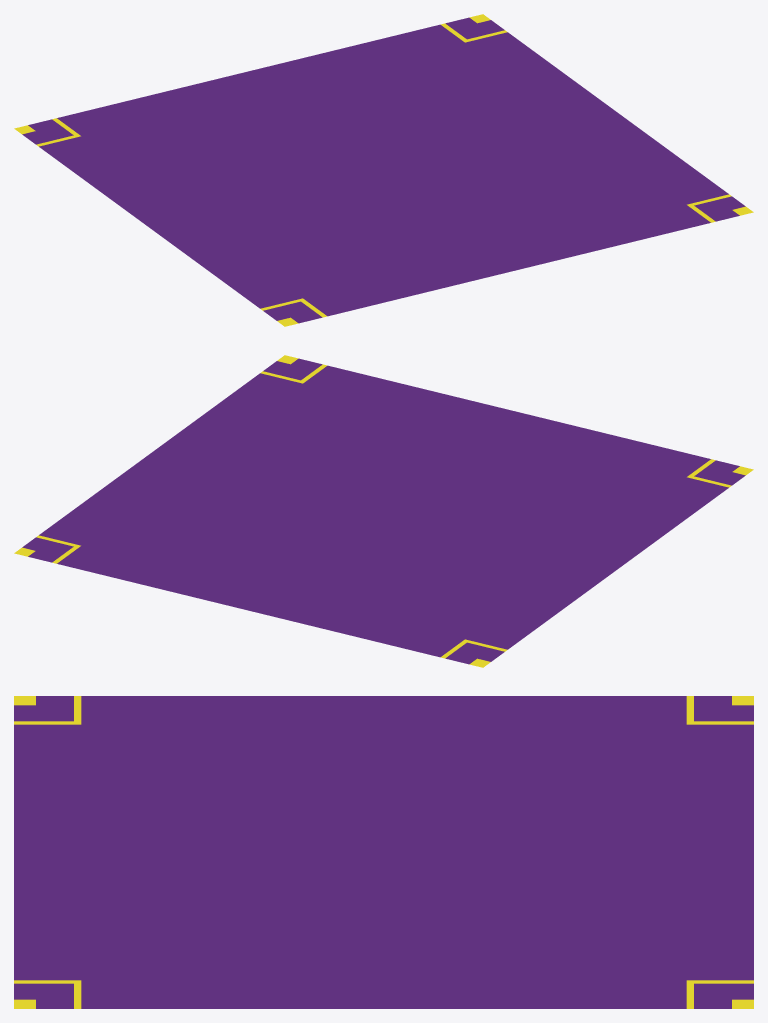
Rendered from cross_connector.fbx.
3 renders of one model, top to bottom at view 1: azimuth 30°, elevation 25°; view 2: azimuth 150°, elevation 25°; view 3: azimuth 270°, elevation 25°, orthographic. The views are drawn at different scales.
Parts seen in each view (by area): view 1: cross_connector_library; view 2: cross_connector_library; view 3: cross_connector_library.
Part boxes in pixels (x1,y1,x2,y2): cross_connector_library: (14,14,753,326); cross_connector_library: (14,355,753,667); cross_connector_library: (14,696,753,1008).
Bounding box in the file's own units: 816 × 0.000127 × 816.
